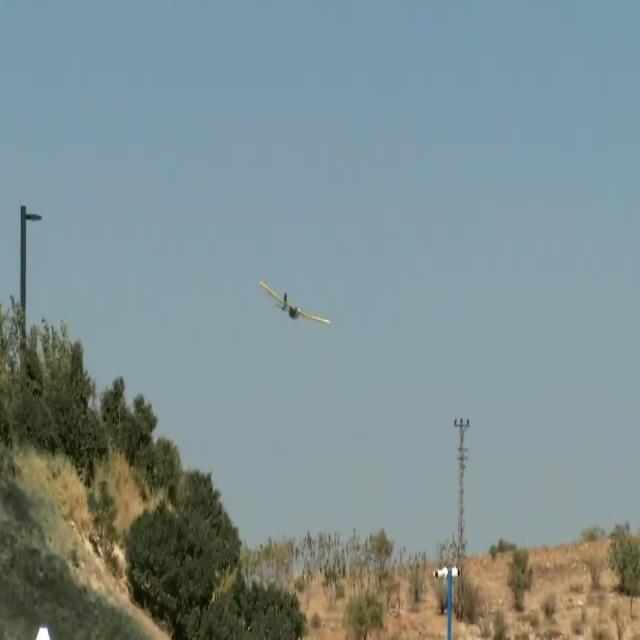iha: (293, 279, 296, 330)
